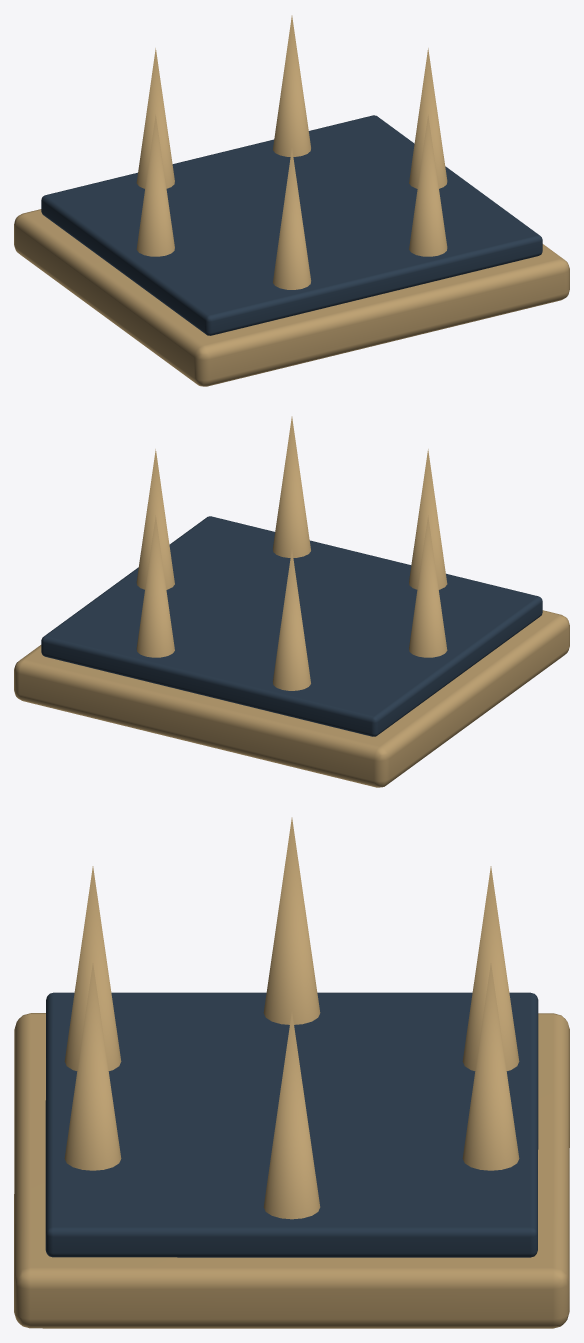
File: SM_HC2_BeatCrown_011.fbx
3 views of the same model, one above another, from view 1: azimuth 30°, elevation 25°; view 2: azimuth 150°, elevation 25°; view 3: azimuth 270°, elevation 25° (orthographic). The views are drawn at different scales.
Visible parts, largest first — view 1: SM_HC2_BeatCrown_011; view 2: SM_HC2_BeatCrown_011; view 3: SM_HC2_BeatCrown_011.
Boxes of the visible parts, x1=… form: SM_HC2_BeatCrown_011: x1=14, y1=15, x2=569, y2=386; SM_HC2_BeatCrown_011: x1=14, y1=416, x2=569, y2=787; SM_HC2_BeatCrown_011: x1=14, y1=817, x2=569, y2=1328.
Bounding box in the file's own units: 250 × 220 × 126.
